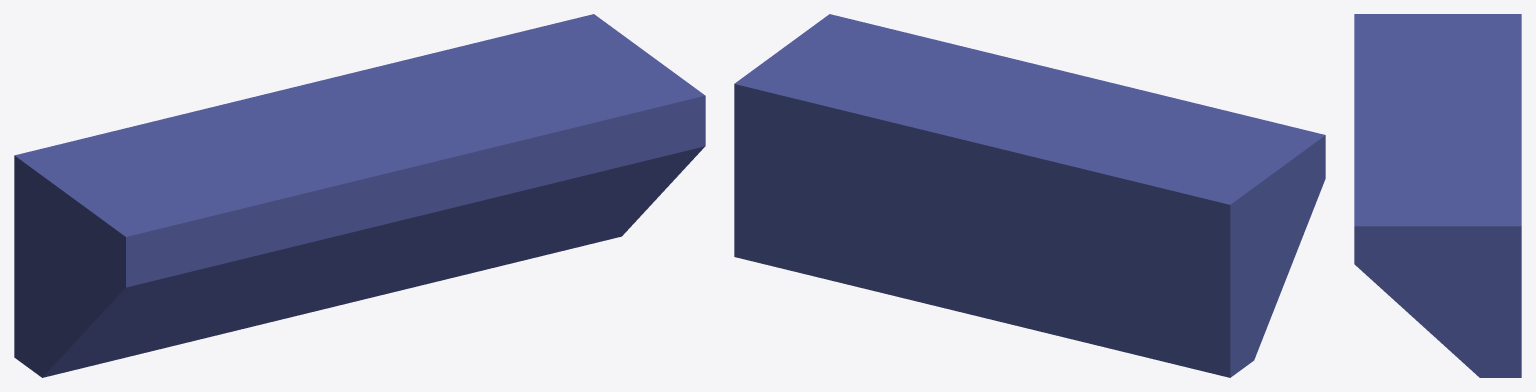
Rendered from CoL_AngledCube_02.fbx.
The picture shows the model from 3 angles, left to right: view 1: azimuth 30°, elevation 25°; view 2: azimuth 150°, elevation 25°; view 3: azimuth 270°, elevation 25°; orthographic projection. The views are drawn at different scales.
Parts seen in each view (by area): view 1: CoL_AngledCube_02; view 2: CoL_AngledCube_02; view 3: CoL_AngledCube_02.
Boxes of the visible parts, x1=… form: CoL_AngledCube_02: x1=14, y1=14, x2=705, y2=377; CoL_AngledCube_02: x1=734, y1=14, x2=1325, y2=377; CoL_AngledCube_02: x1=1354, y1=14, x2=1521, y2=377.
Bounding box in the file's own units: 600 × 200 × 200.
